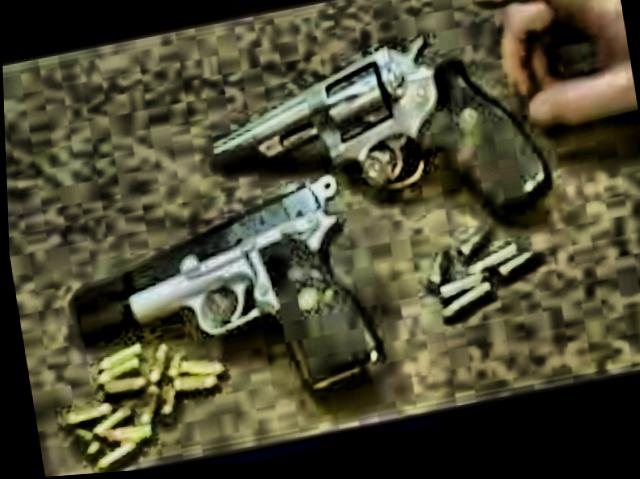pistol: (187, 17, 553, 275), (51, 164, 390, 429)
